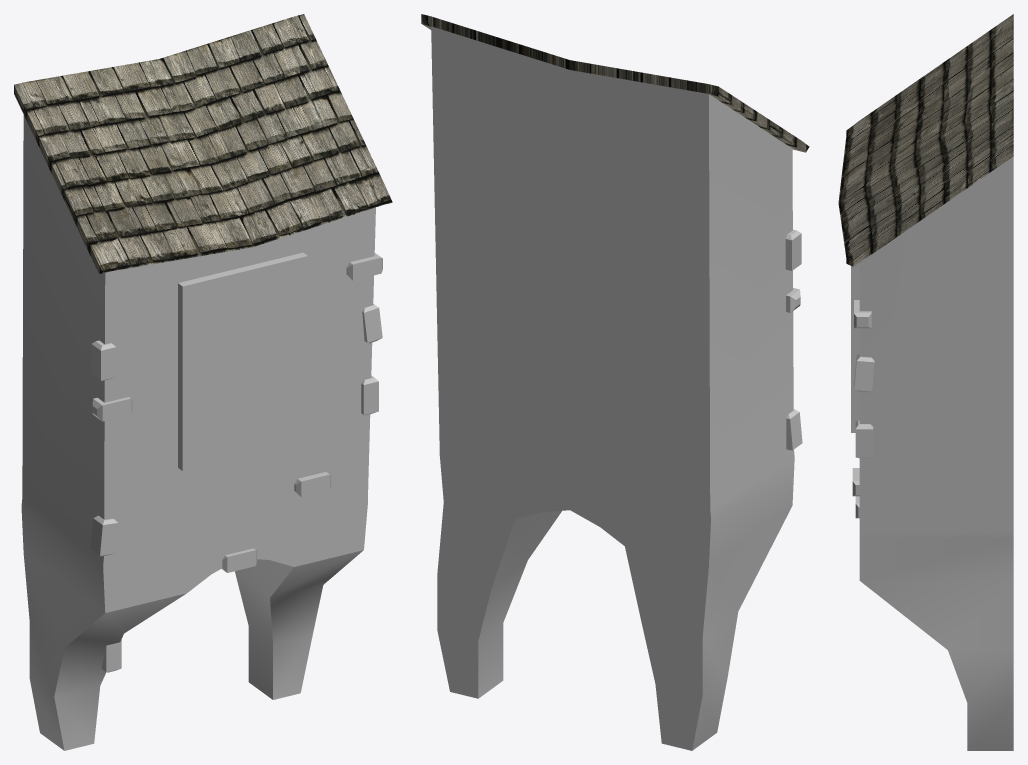
The model's file is balcony_1.fbx.
3 views of the same model, side by side, from view 1: azimuth 30°, elevation 25°; view 2: azimuth 150°, elevation 25°; view 3: azimuth 270°, elevation 25° (orthographic). The views are drawn at different scales.
Visible parts, largest first — view 1: Mesh; view 2: Mesh; view 3: Mesh.
Part boxes in pixels (box(x1,y1,x2,y2)): Mesh: box(14, 14, 392, 750); Mesh: box(421, 14, 809, 750); Mesh: box(838, 14, 1013, 750).
Bounding box in the file's own units: 284 × 612 × 157.
